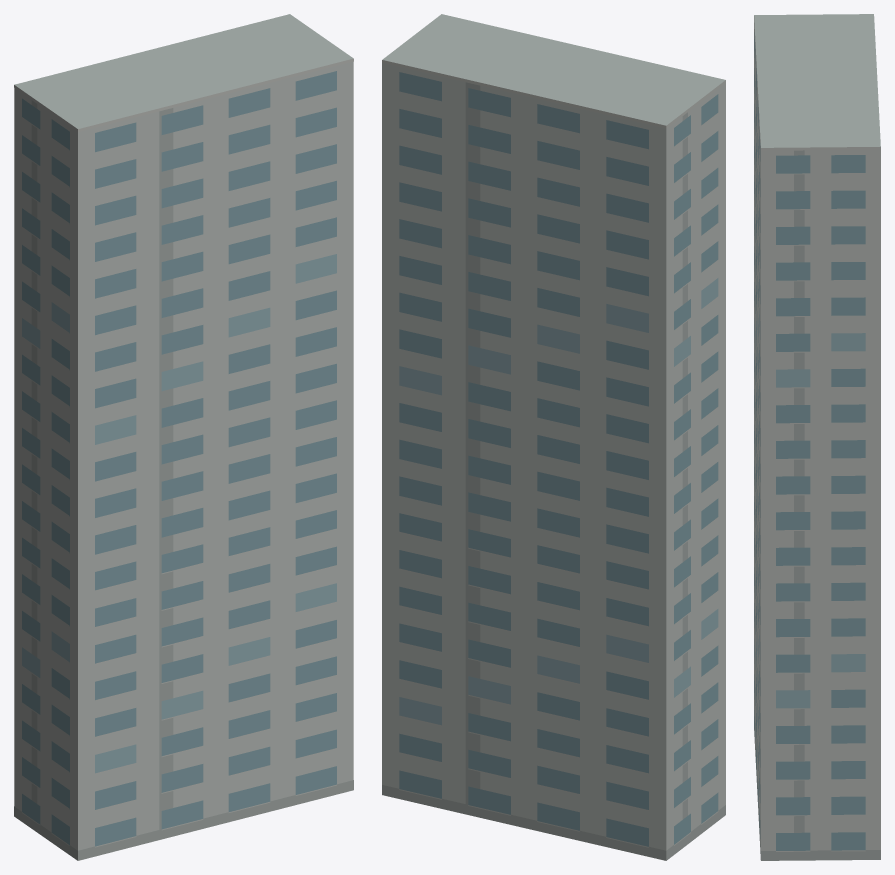
Rendered from residential-1cc4f3b1-bc63-4640-bdbf-824b8163f274.glb.
The picture shows the model from 3 angles, left to right: view 1: azimuth 30°, elevation 25°; view 2: azimuth 150°, elevation 25°; view 3: azimuth 270°, elevation 25°; orthographic projection. The views are drawn at different scales.
Visible parts, largest first — view 1: residential-1cc4f3b1-bc63-4640-bdbf-824b8163f274.tmp; view 2: residential-1cc4f3b1-bc63-4640-bdbf-824b8163f274.tmp; view 3: residential-1cc4f3b1-bc63-4640-bdbf-824b8163f274.tmp.
Boxes of the visible parts, left/top/right/bottom form: residential-1cc4f3b1-bc63-4640-bdbf-824b8163f274.tmp: left=14, top=14, right=353, bottom=860; residential-1cc4f3b1-bc63-4640-bdbf-824b8163f274.tmp: left=382, top=14, right=725, bottom=860; residential-1cc4f3b1-bc63-4640-bdbf-824b8163f274.tmp: left=754, top=14, right=880, bottom=860.
Size of the model in its own units: 23.78 by 59 by 9.52.
